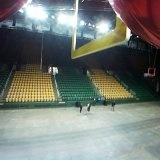Orange_Square_GShape: (147, 67, 156, 77)
Yellow_Square_GShape: (72, 0, 130, 60)
